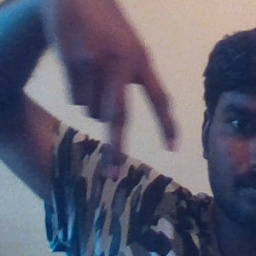Y: (60, 16, 182, 183)
